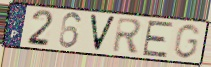2: (27, 9, 55, 49)
6: (58, 11, 83, 50)
E: (141, 20, 176, 59)
G: (172, 23, 202, 60)
R: (111, 16, 144, 55)
V: (88, 13, 118, 53)
